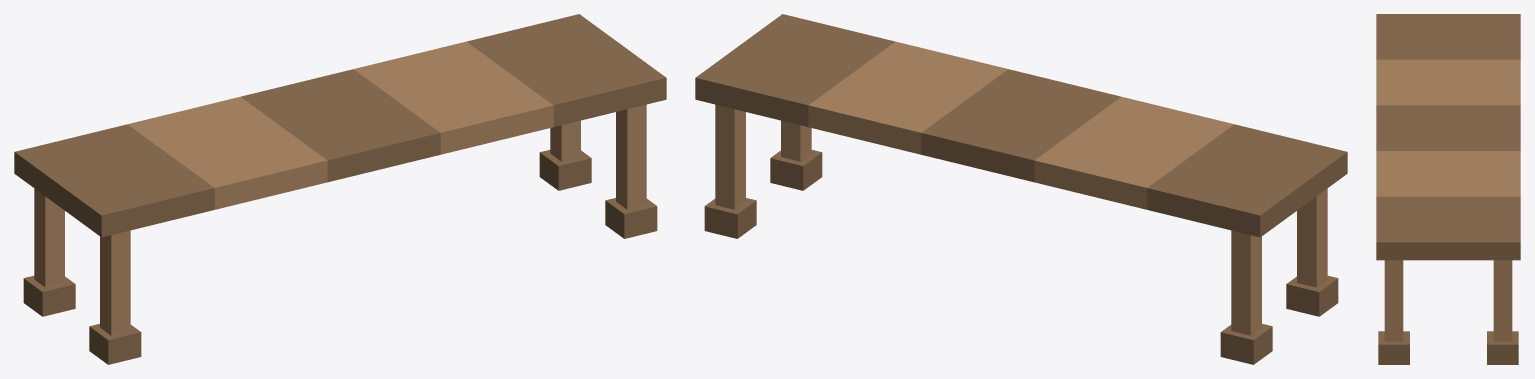
The model's file is Bench02.fbx.
The picture shows the model from 3 angles, left to right: view 1: azimuth 30°, elevation 25°; view 2: azimuth 150°, elevation 25°; view 3: azimuth 270°, elevation 25°; orthographic projection. The views are drawn at different scales.
Visible parts, largest first — view 1: Cube.431; view 2: Cube.431; view 3: Cube.431.
Part boxes in pixels (left/top/right/bottom): Cube.431: left=14, top=14, right=666, bottom=364; Cube.431: left=695, top=14, right=1347, bottom=364; Cube.431: left=1376, top=14, right=1520, bottom=364.
Bounding box in the file's own units: 224 × 57.72 × 59.93.
